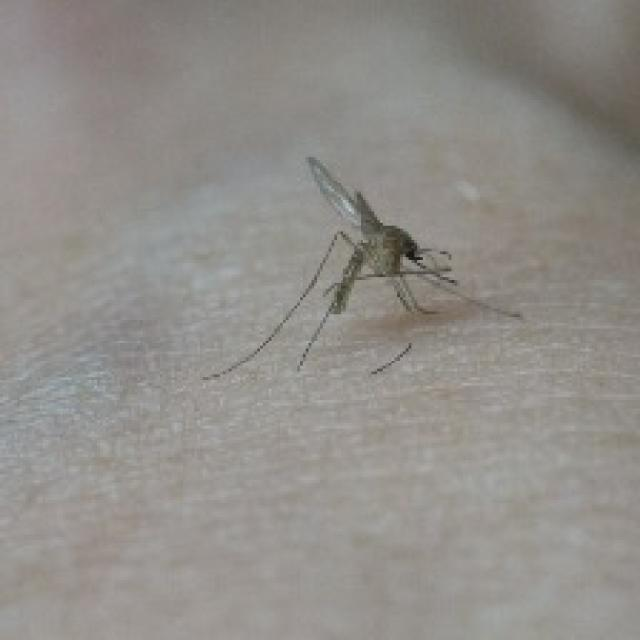culex: (200, 151, 523, 380)
